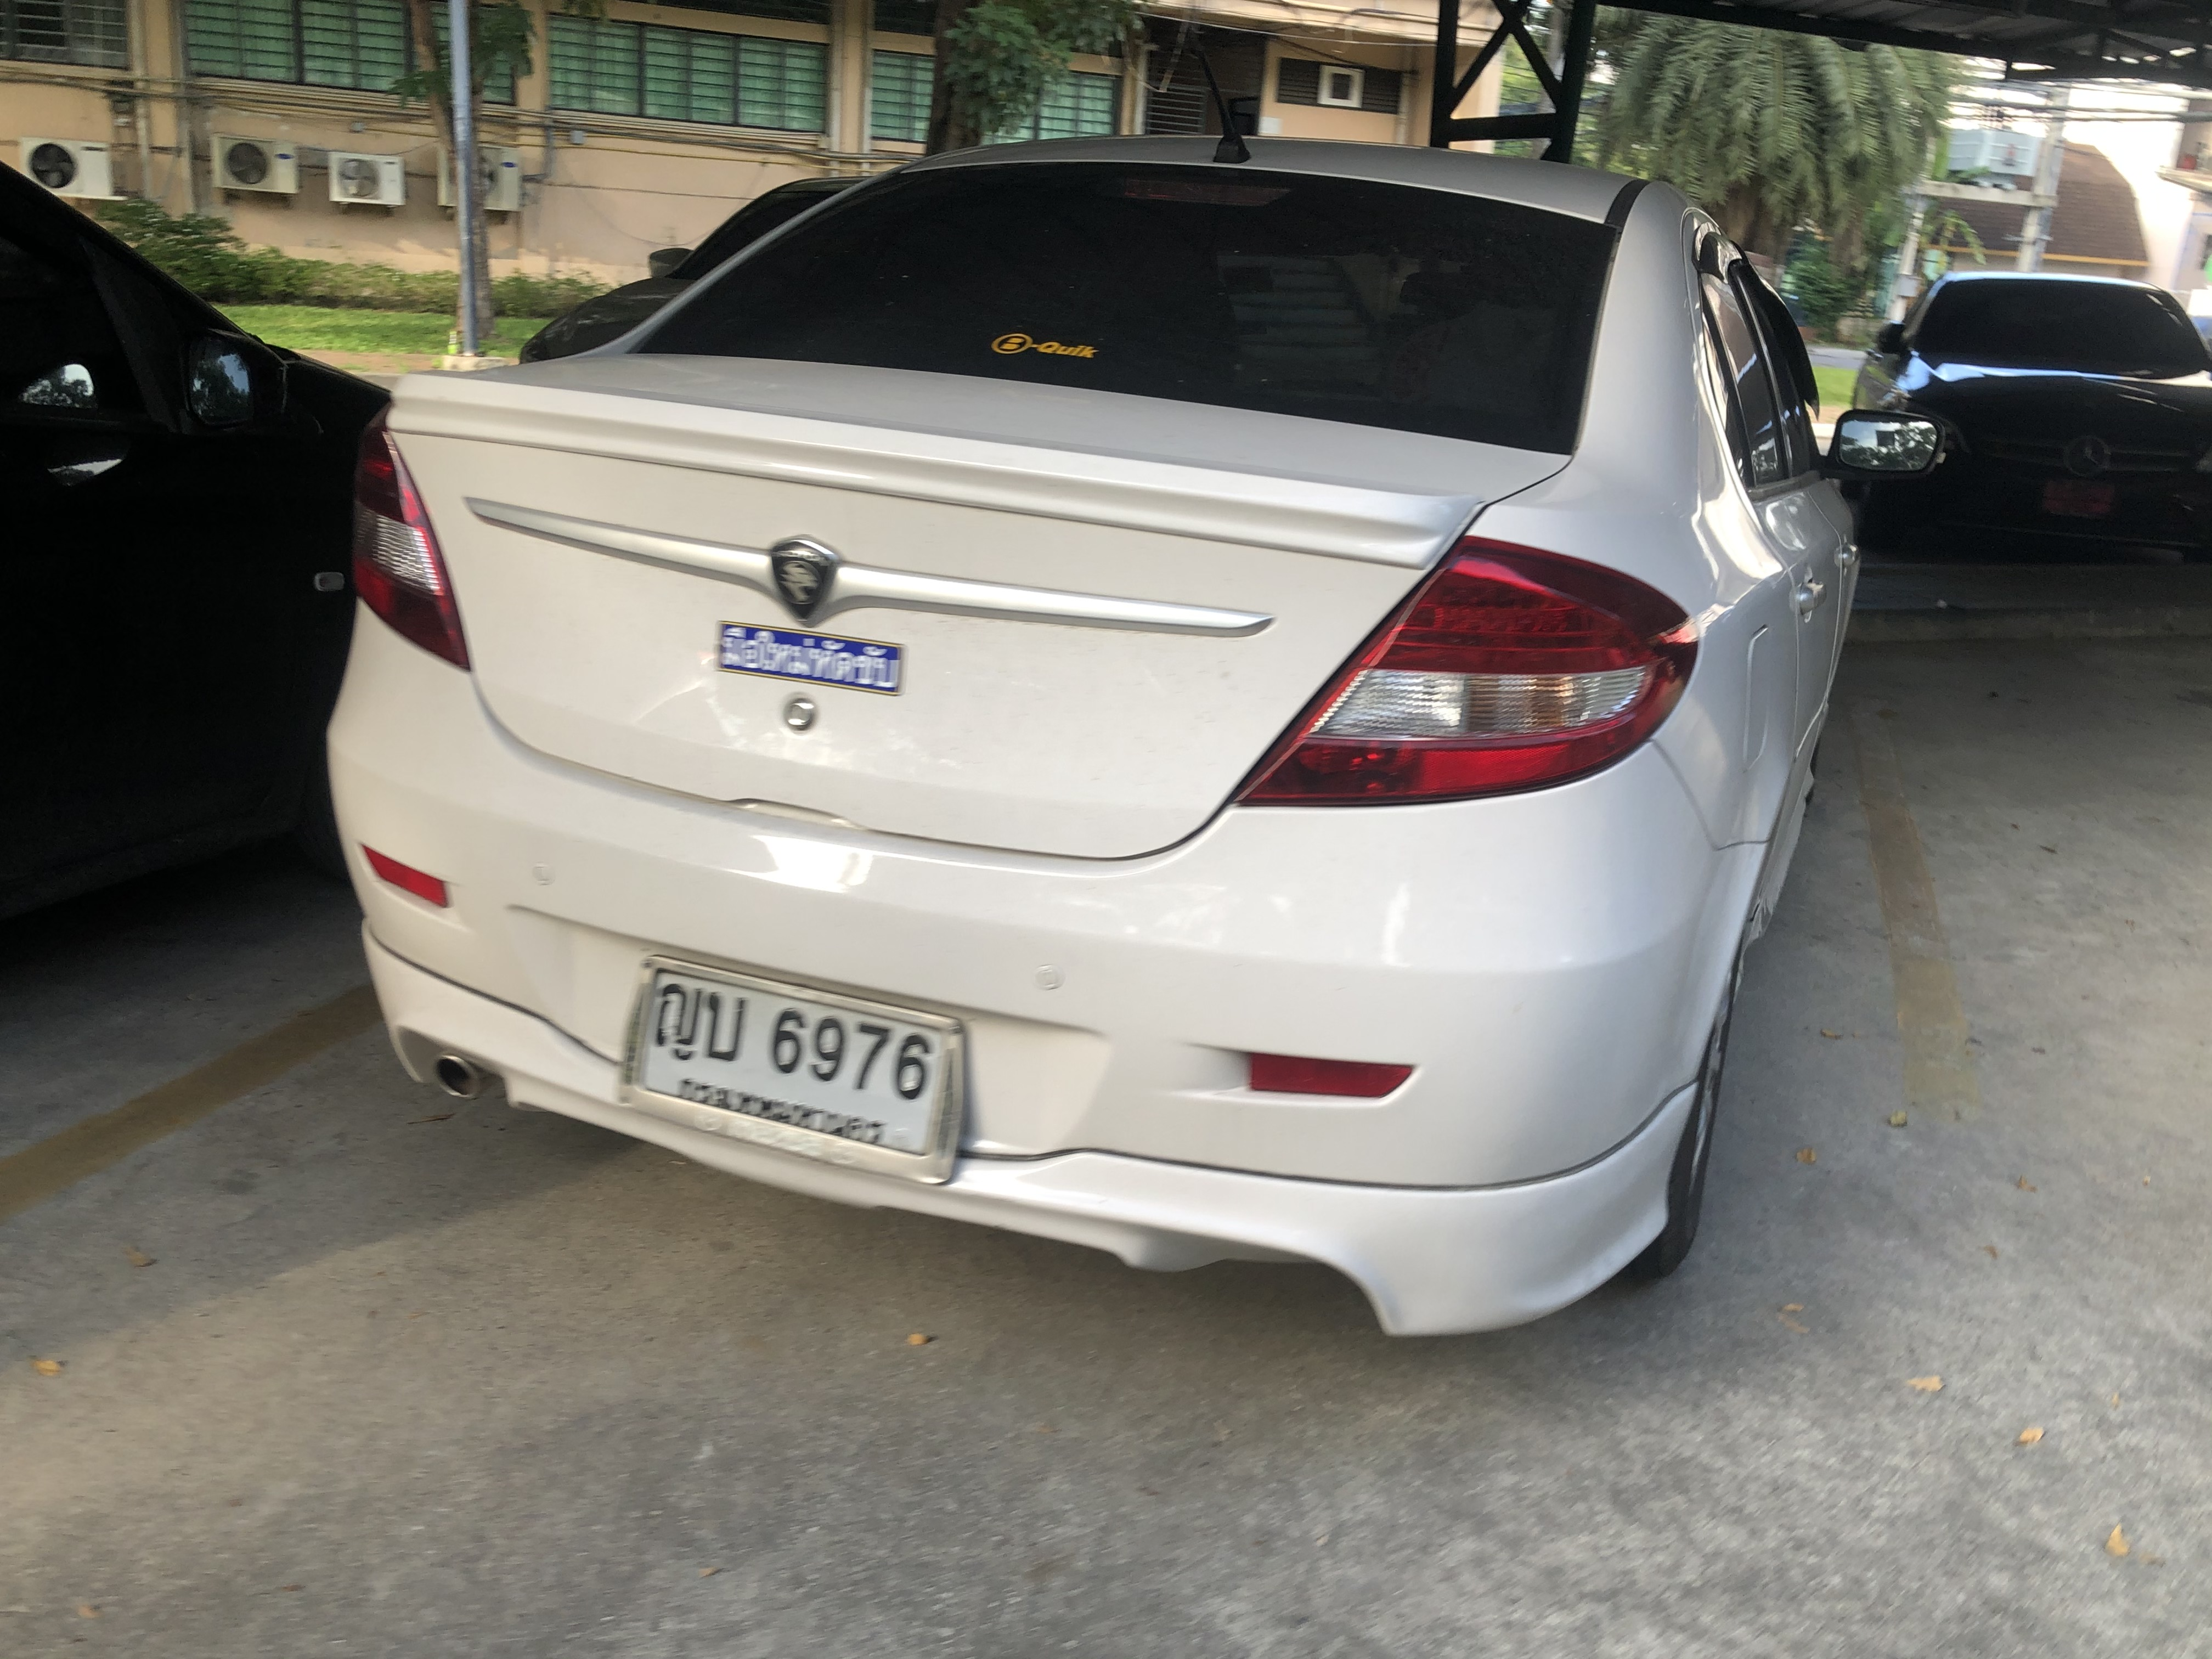in: (646, 965, 941, 1159)
out: (606, 943, 984, 1197)
